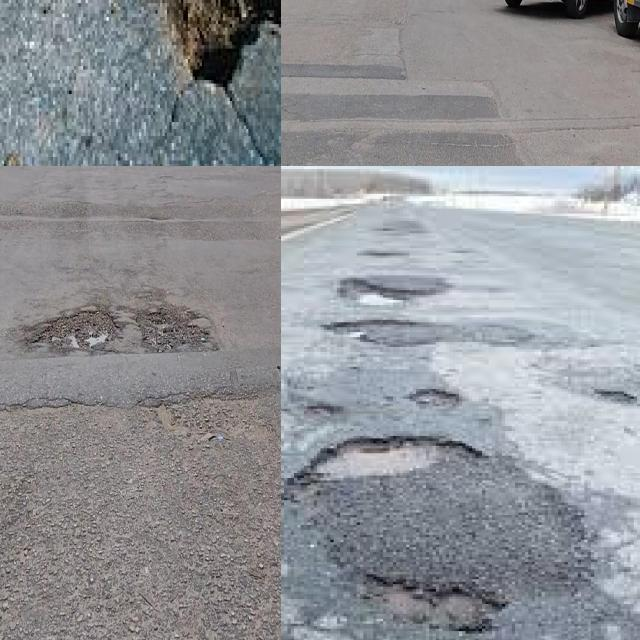Pothole: (284, 436, 489, 488), (363, 574, 499, 634), (31, 306, 116, 354), (136, 308, 210, 351)
